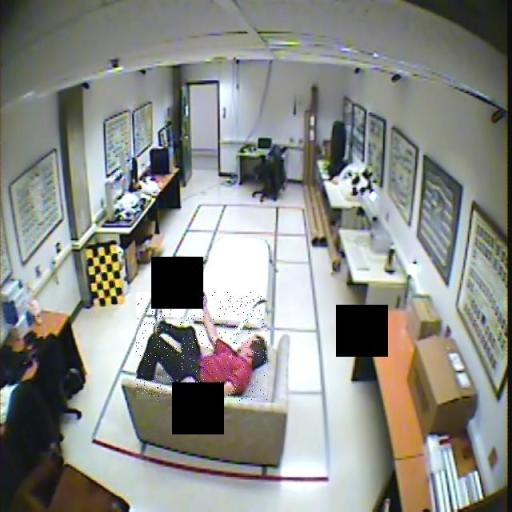Fall: (136, 293, 267, 402)
